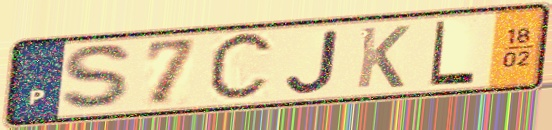7: (143, 35, 198, 109)
C: (204, 28, 278, 107)
J: (283, 27, 343, 96)
K: (353, 23, 413, 91)
L: (426, 18, 478, 88)
S: (57, 42, 139, 114)
